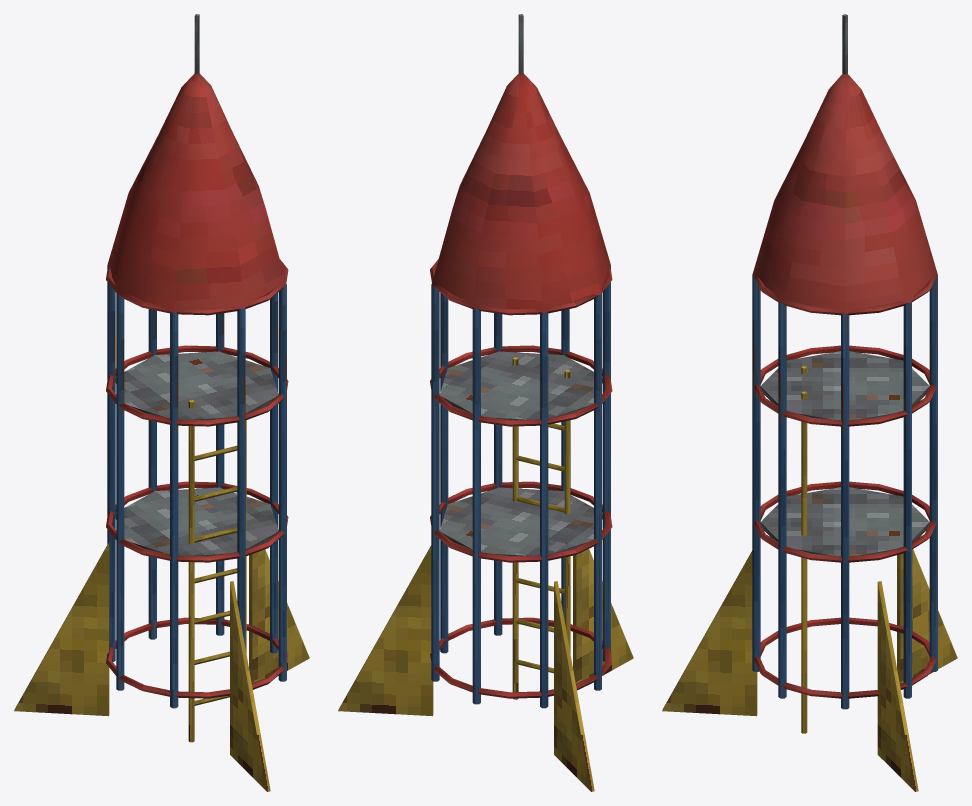
The model's file is rocket.glb.
3 views of the same model, side by side, from view 1: azimuth 30°, elevation 25°; view 2: azimuth 150°, elevation 25°; view 3: azimuth 270°, elevation 25° (orthographic).
Parts seen in each view (by area): view 1: rocket; view 2: rocket; view 3: rocket.
Part boxes in pixels (<box>): rocket: <box>14,14,309,791</box>; rocket: <box>338,14,633,791</box>; rocket: <box>662,14,957,791</box>.
Bounding box in the file's own units: 2.34 × 5.7 × 2.17.
